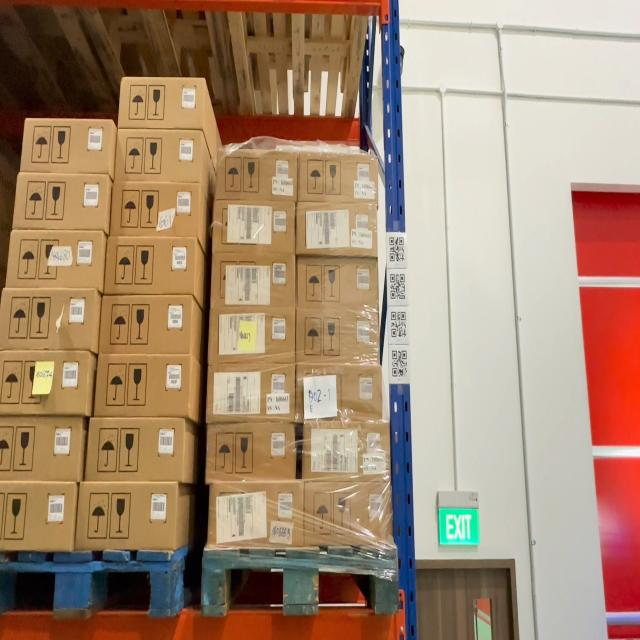box: (80, 483, 180, 550), (210, 483, 304, 547), (0, 350, 91, 413), (90, 419, 183, 480), (2, 288, 96, 348), (96, 354, 188, 415), (306, 481, 393, 545), (8, 232, 102, 290), (208, 422, 296, 482), (14, 173, 108, 229), (105, 238, 196, 294), (209, 365, 297, 422), (100, 295, 188, 352), (22, 120, 114, 174), (1, 481, 76, 547), (3, 418, 82, 480), (306, 421, 390, 479), (213, 253, 296, 311), (115, 182, 202, 236), (297, 366, 383, 419), (117, 130, 202, 181), (212, 309, 295, 361), (297, 308, 378, 361), (215, 200, 296, 252), (122, 78, 206, 128), (296, 258, 378, 309), (219, 149, 299, 200), (297, 204, 378, 254), (300, 154, 376, 203)
